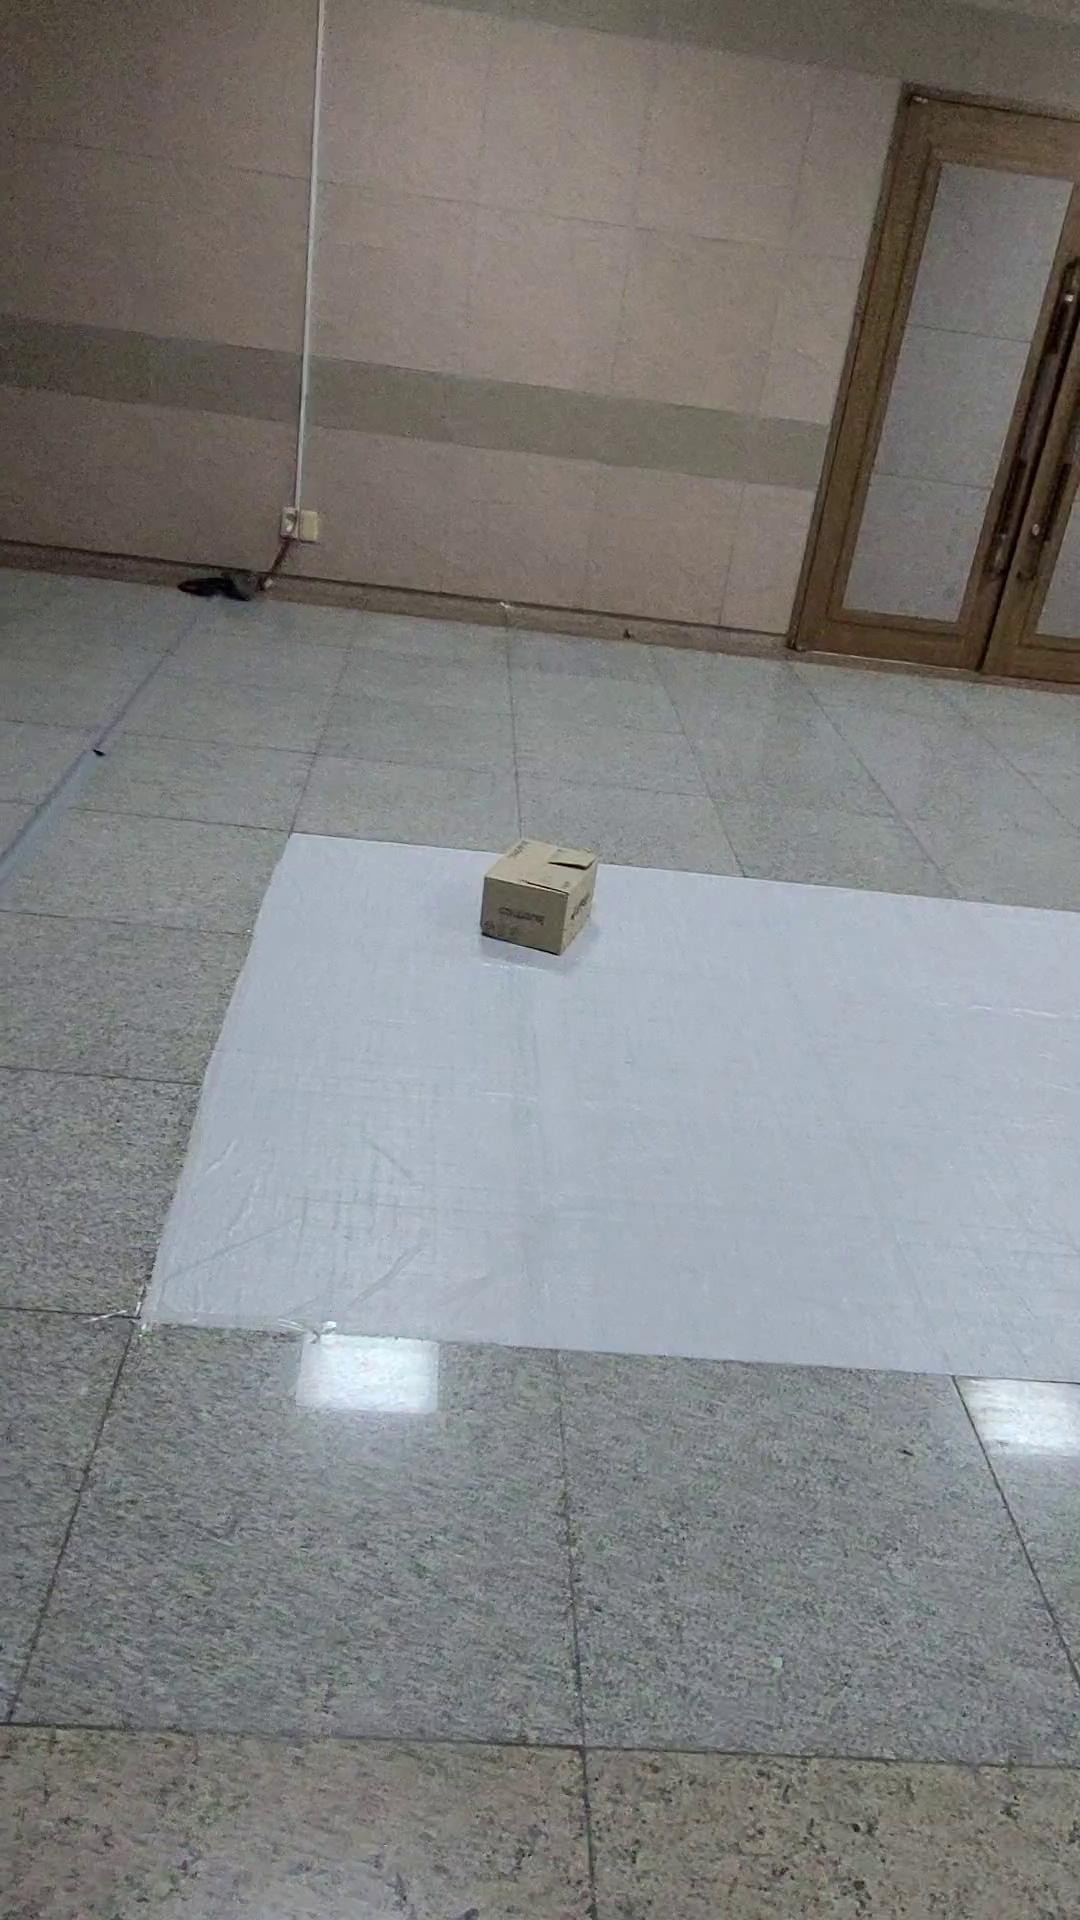Box: (465, 785, 625, 971)
